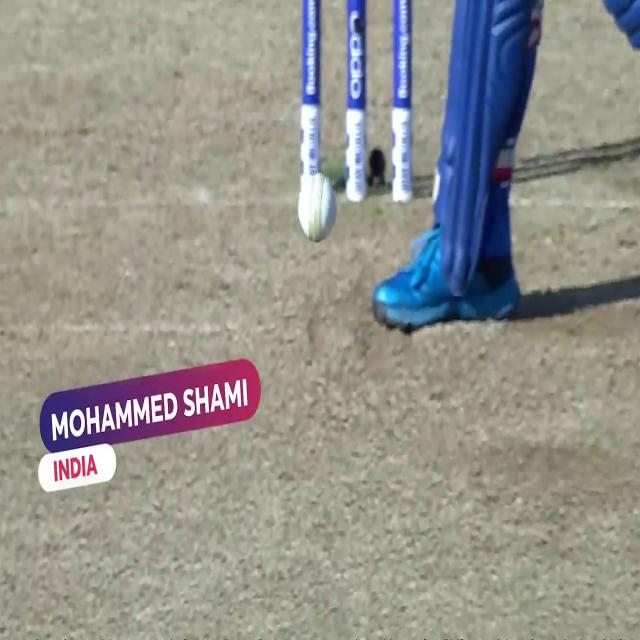ball: (297, 170, 339, 250)
